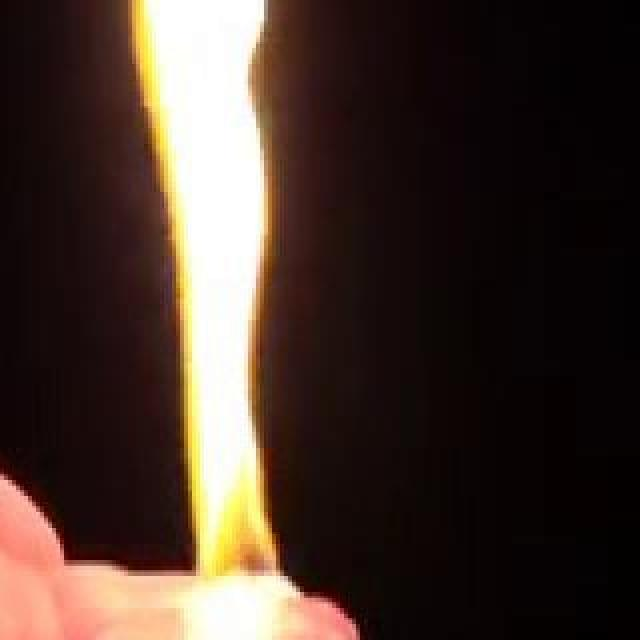fire: (106, 0, 286, 640)
